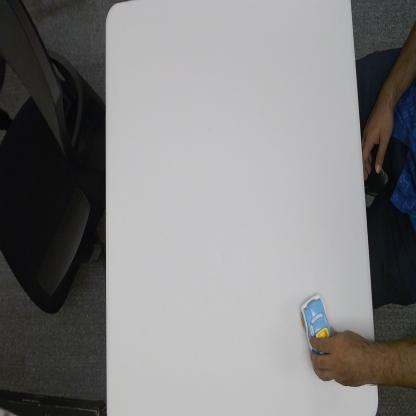Car: (300, 293, 334, 355)
Hand: (309, 328, 369, 390)
